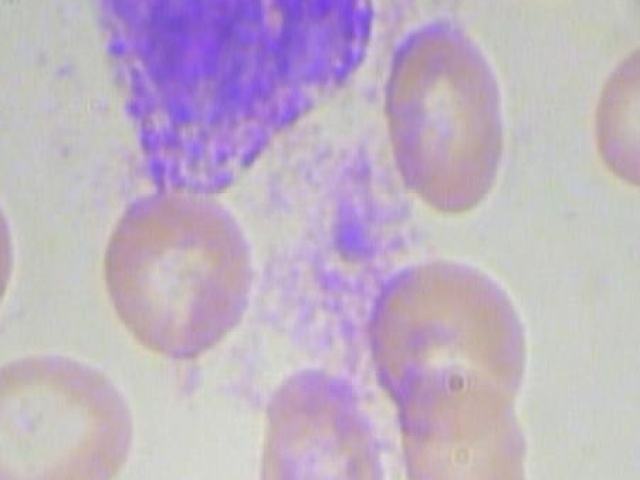RBC: (94, 182, 273, 362), (380, 20, 518, 217), (0, 337, 141, 480), (394, 353, 533, 480), (247, 356, 389, 480), (583, 25, 640, 197), (0, 166, 22, 344)
